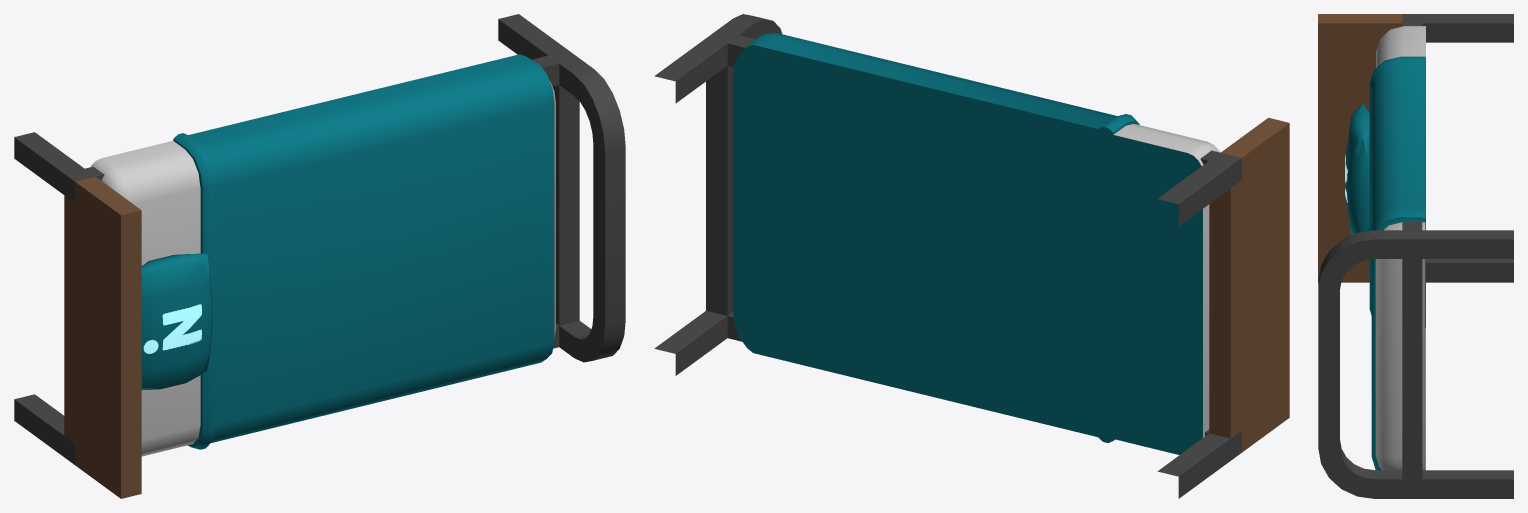
File: bed.glb
3 renders of one model, left to right at view 1: azimuth 30°, elevation 25°; view 2: azimuth 150°, elevation 25°; view 3: azimuth 270°, elevation 25°, orthographic. The views are drawn at different scales.
Parts seen in each view (by area): view 1: bed; view 2: bed; view 3: bed.
Part boxes in pixels (left/top/right/bottom): bed: left=14, top=14, right=625, bottom=498; bed: left=654, top=14, right=1289, bottom=498; bed: left=1318, top=14, right=1513, bottom=498.
Bounding box in the file's own units: 3.3 × 1.9 × 1.21.
